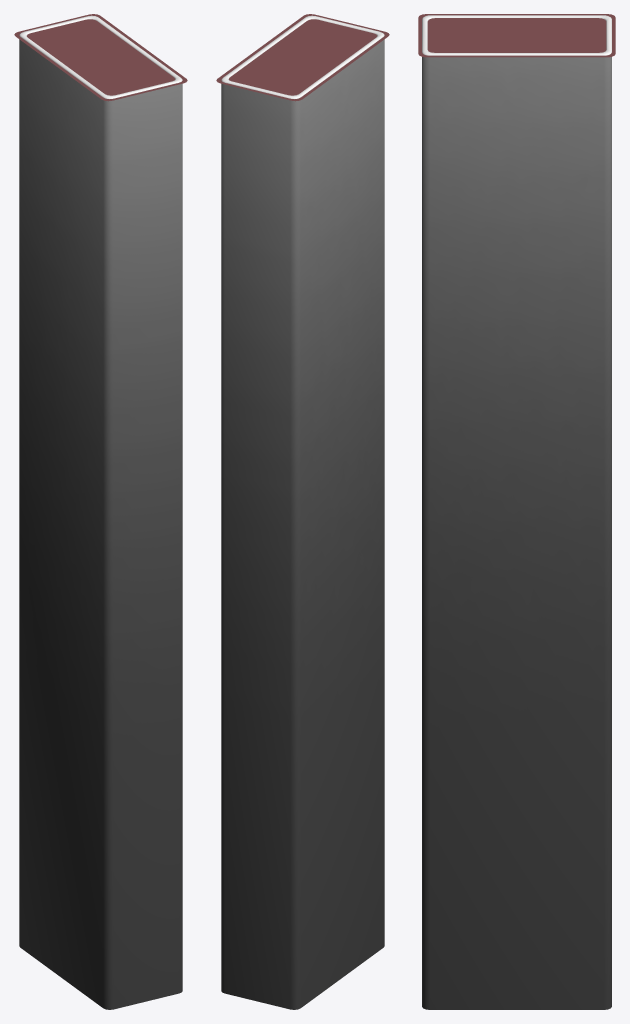
Rendered from Block_3D_2.fbx.
The picture shows the model from 3 angles, left to right: view 1: azimuth 30°, elevation 25°; view 2: azimuth 150°, elevation 25°; view 3: azimuth 270°, elevation 25°; orthographic projection. The views are drawn at different scales.
Parts seen in each view (by area): view 1: Block_3D_2, solid, outline; view 2: Block_3D_2, solid, outline; view 3: Block_3D_2, solid, outline.
Boxes of the visible parts, <box> form: Block_3D_2: <box>19,15,182,1009</box>; solid: <box>27,19,175,95</box>; outline: <box>14,14,187,101</box>; Block_3D_2: <box>221,15,384,1009</box>; solid: <box>228,19,376,95</box>; outline: <box>216,14,389,101</box>; Block_3D_2: <box>422,15,611,1009</box>; solid: <box>427,18,606,52</box>; outline: <box>418,14,615,57</box>.
Bounding box in the file's own units: 293 × 3013 × 563.
